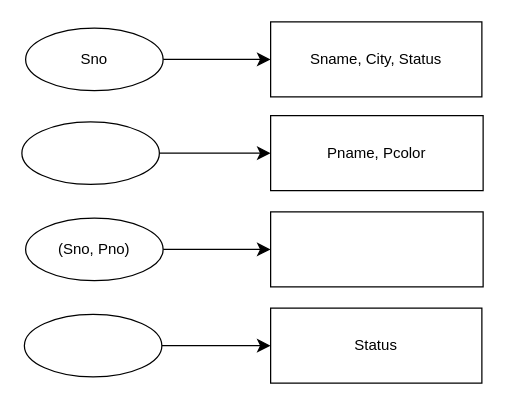
The diagram is 505 pixels wide and 405 high, and some of its shapes have lost their labels. The shapes that lost their labels are listed below. From the top down, each one's box as (x1, y1, x2, y2) in pixels, then its label:
(21, 121, 159, 184): Pno
(269, 211, 483, 287): Qty
(23, 313, 162, 377): City
